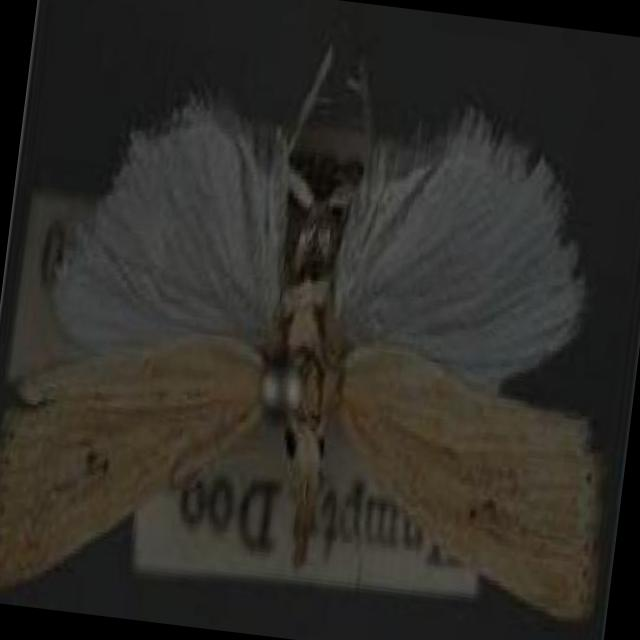stem-borer: (0, 35, 610, 628)
